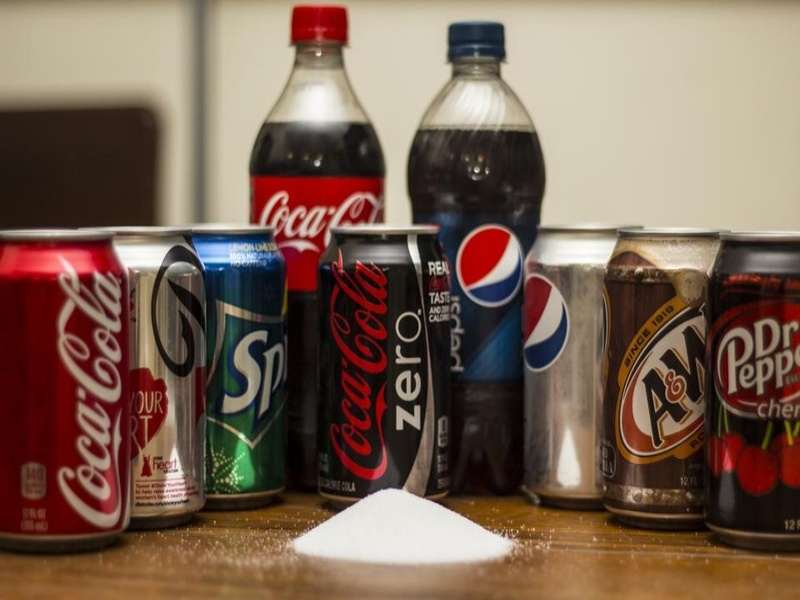Can: (44, 173, 232, 510), (298, 194, 480, 514), (157, 180, 314, 529), (591, 205, 750, 529), (504, 202, 648, 537), (678, 178, 800, 540), (8, 210, 137, 544)
Plastic bottle: (242, 8, 406, 462), (400, 24, 557, 497)
